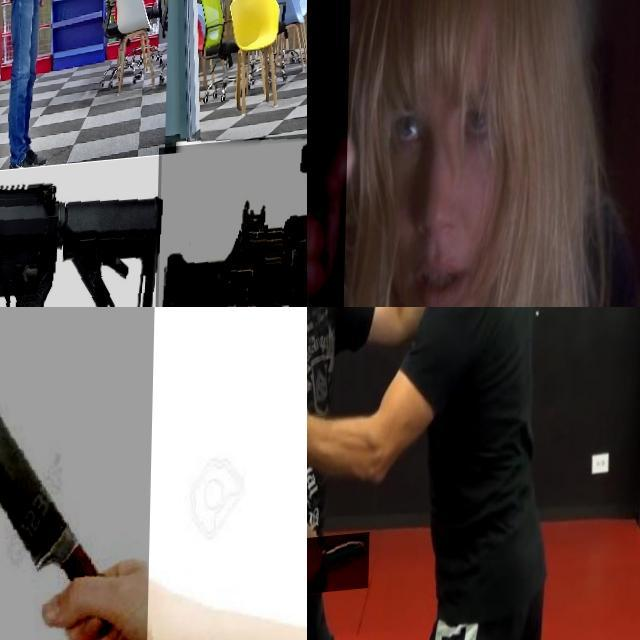-: (0, 307, 157, 640), (307, 537, 371, 600)
gun-knife-thesis - v11 Yolov5 augmented: (154, 129, 307, 307), (0, 161, 163, 307), (307, 0, 381, 307), (0, 0, 12, 34)
